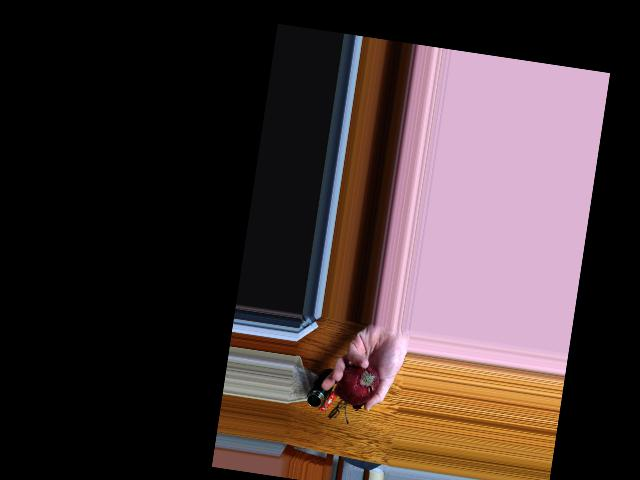onion: (334, 356, 382, 408)
